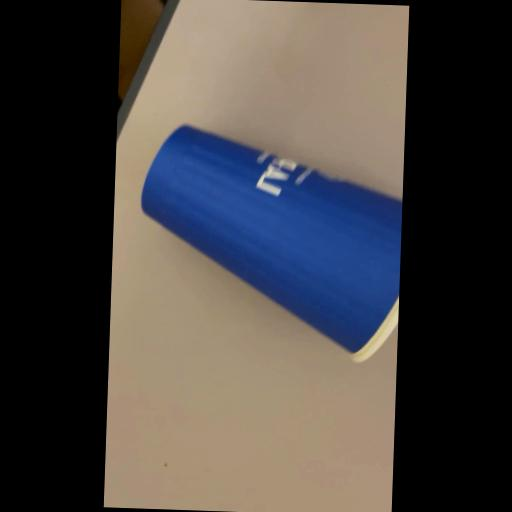lp_paper_cup: (134, 116, 405, 370)
